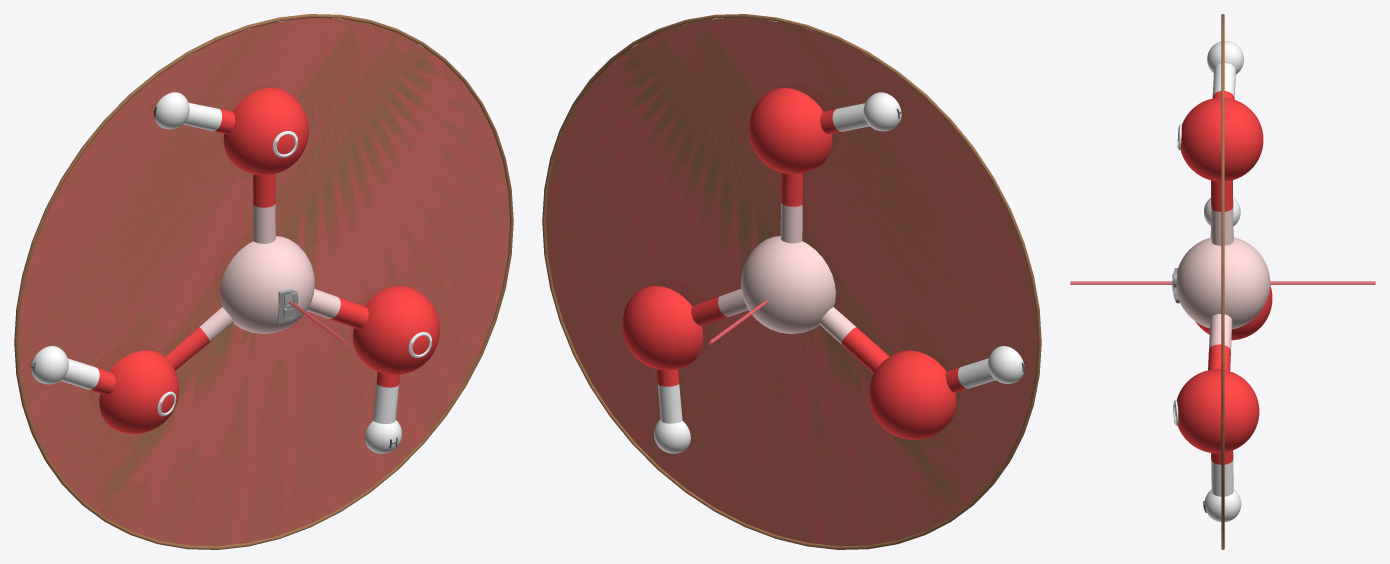
Rendered from boricacid_new.fbx.
3 renders of one model, left to right at view 1: azimuth 30°, elevation 25°; view 2: azimuth 150°, elevation 25°; view 3: azimuth 270°, elevation 25°, orthographic. The views are drawn at different scales.
Visible parts, largest first — view 1: Circle.001, Circle.002, boric acid, boric acid.002, boric acid.003, boric acid.001, boric acid.048, boric acid.015, boric acid.032, boric acid.005, boric acid.087, boric acid.065 (+4 smaller); view 2: Circle.001, Circle.002, boric acid, boric acid.001, boric acid.003, boric acid.002, boric acid.015, boric acid.048, boric acid.032, boric acid.065, boric acid.089, boric acid.087 (+3 smaller); view 3: boric acid, boric acid.003, boric acid.002, Circle.001, Circle.002, boric acid.048, boric acid.032, boric acid.065, boric acid.088, Cylinder, boric acid.089, boric acid.001 (+1 smaller).
Part boxes in pixels (x1,y1,x2,y2): Circle.001: (14,14,513,549); Circle.002: (14,14,513,549); boric acid: (220,236,314,333); boric acid.002: (353,286,439,374); boric acid.003: (223,87,308,175); boric acid.001: (99,350,179,434); boric acid.048: (253,174,275,243); boric acid.015: (166,307,233,370); boric acid.032: (307,288,368,329); boric acid.005: (60,358,115,394); boric acid.087: (31,346,68,384); boric acid.065: (373,372,399,424); Circle.001: (542,14,1041,549); Circle.002: (542,14,1041,549); boric acid: (741,236,835,333); boric acid.001: (869,350,956,439); boric acid.003: (748,87,832,174); boric acid.002: (622,286,702,370); boric acid.015: (819,307,889,373); boric acid.048: (780,172,802,243); boric acid.032: (691,289,748,325); boric acid.065: (656,369,682,423); boric acid.089: (863,92,901,131); boric acid.087: (988,346,1024,383); boric acid: (1176,237,1270,329); boric acid.003: (1180,97,1263,181); boric acid.002: (1175,369,1259,453); Circle.001: (1221,14,1224,549); Circle.002: (1221,14,1224,549); boric acid.048: (1211,180,1233,245); boric acid.032: (1208,314,1232,371); boric acid.065: (1211,450,1233,496); boric acid.088: (1204,489,1241,521); Cylinder: (1070,281,1375,284); boric acid.089: (1207,41,1243,74); boric acid.001: (1195,286,1272,340).
Bounding box in the file's own units: 426 × 425 × 243.
